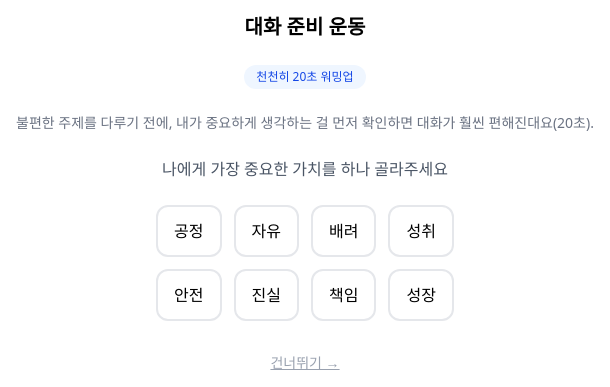
Test case: SelfAffirmationStep › renders PII masking notice in experience step
This screenshot has width=610, height=387.
Click the button "진실" at (266, 295), box [234,269,299,321]
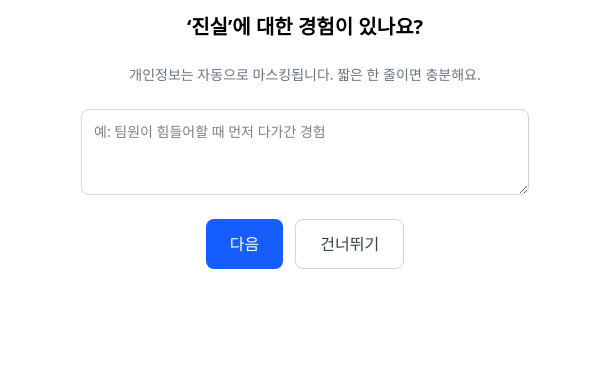
Check: the text "개인정보는 자동으로 마스킹됩니다. 짧은 한 줄이면 충분해요." is shown, box [129,65,481,85]
